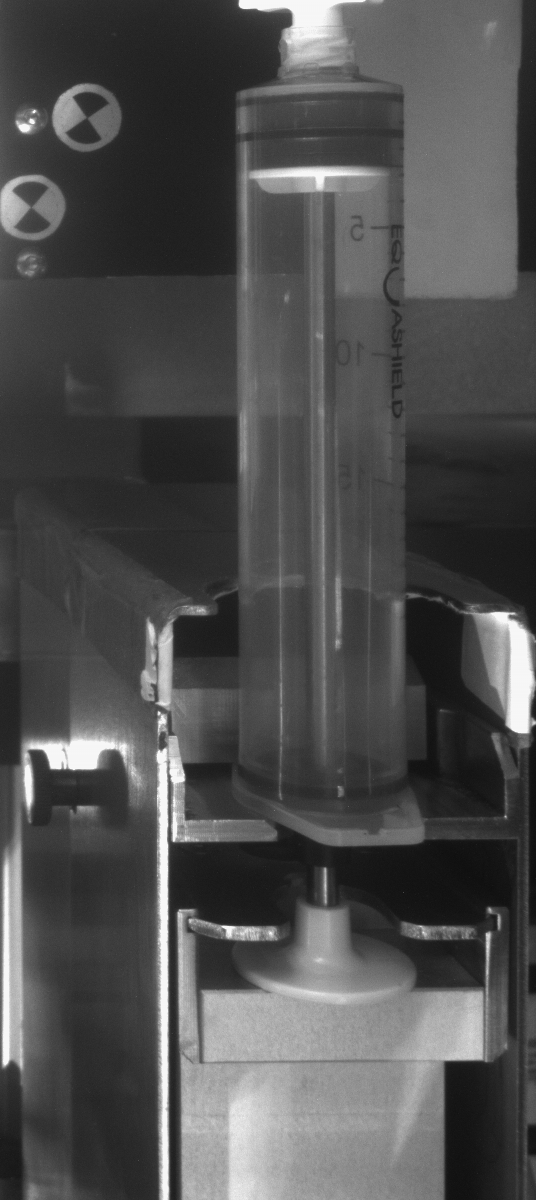piston: (234, 106, 406, 194)
